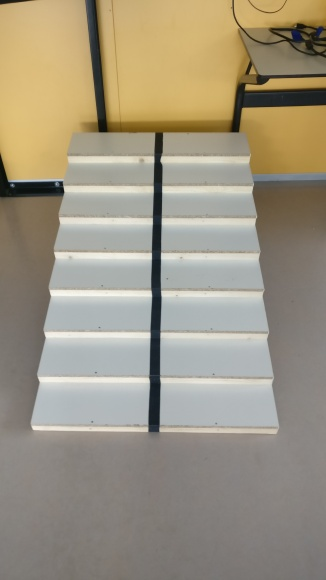stairs: (29, 131, 281, 437)
